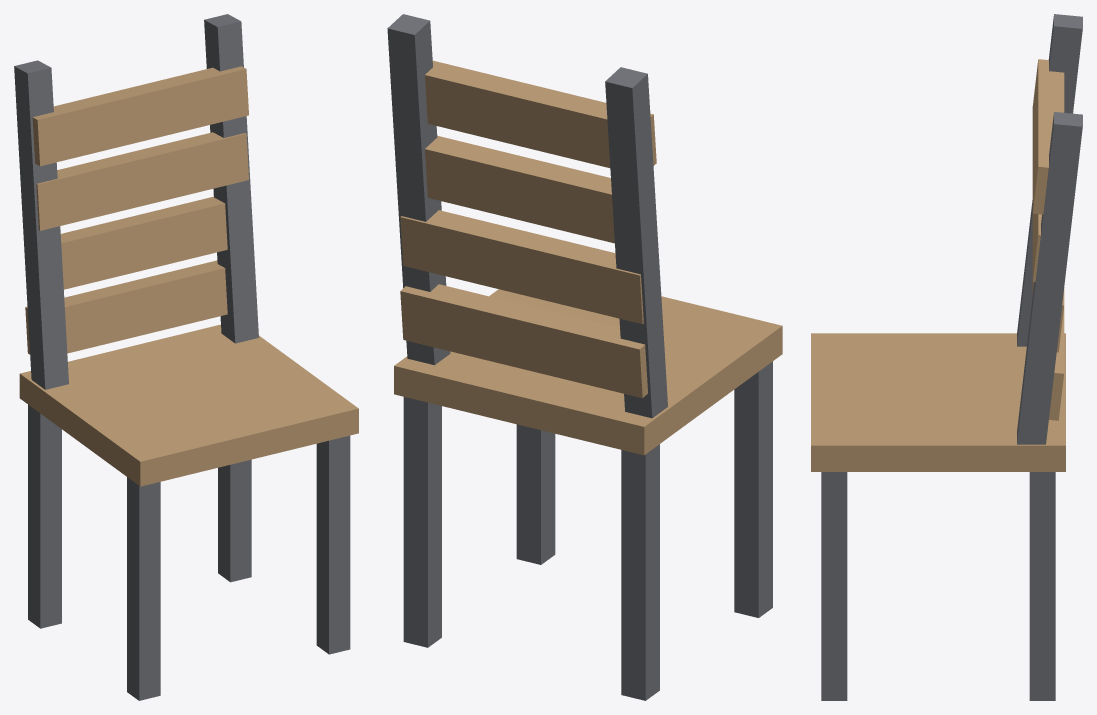
The model's file is tennis-club-and-courts-terrace-chair-db8478f6.glb.
3 renders of one model, left to right at view 1: azimuth 30°, elevation 25°; view 2: azimuth 150°, elevation 25°; view 3: azimuth 270°, elevation 25°, orthographic. The views are drawn at different scales.
Parts seen in each view (by area): view 1: terrace-chair; view 2: terrace-chair; view 3: terrace-chair.
Part boxes in pixels (x1,y1,x2,y2): terrace-chair: (14,14,358,700); terrace-chair: (387,14,782,700); terrace-chair: (811,14,1082,700).
Bounding box in the file's own units: 0.46 × 1.1 × 0.4693.
